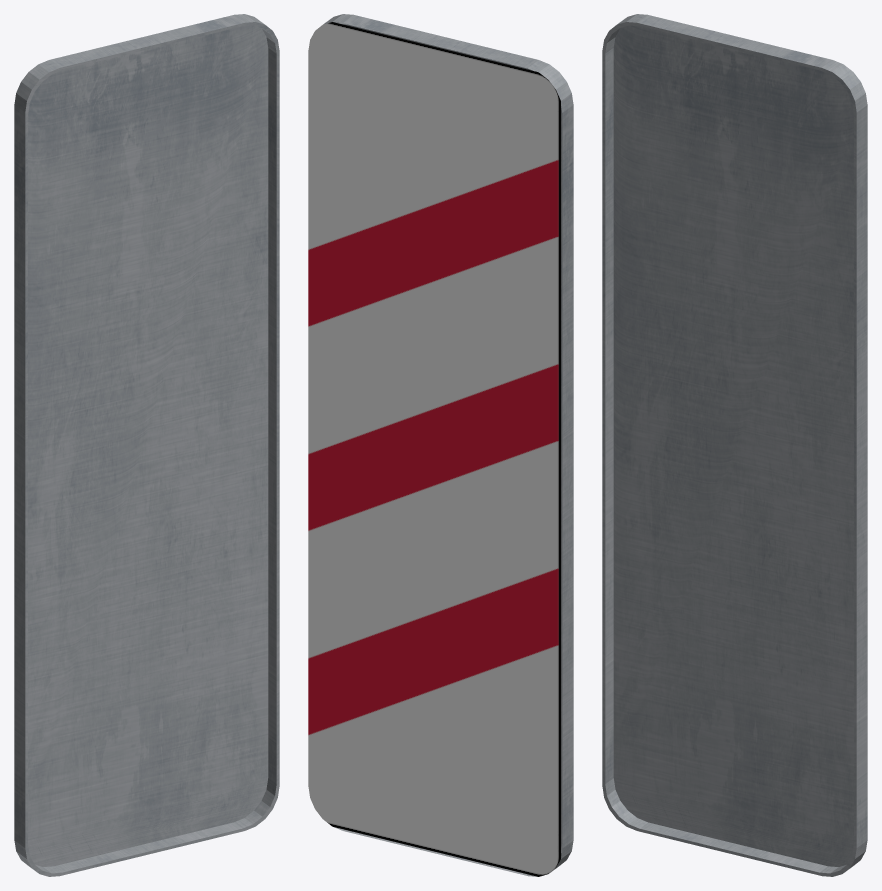
File: Countdown_marker_to_level_crossing__3_.fbx
3 views of the same model, side by side, from view 1: azimuth 30°, elevation 25°; view 2: azimuth 150°, elevation 25°; view 3: azimuth 330°, elevation 25° (orthographic).
Visible parts, largest first — view 1: Countdown marker to level crossing (3); view 2: Countdown marker to level crossing (3); view 3: Countdown marker to level crossing (3).
Part boxes in pixels (<box>): Countdown marker to level crossing (3): <box>14,14,279,876</box>; Countdown marker to level crossing (3): <box>308,14,573,876</box>; Countdown marker to level crossing (3): <box>602,14,867,876</box>.
Size of the model in its own units: 0.02 by 0.27 by 0.82.
